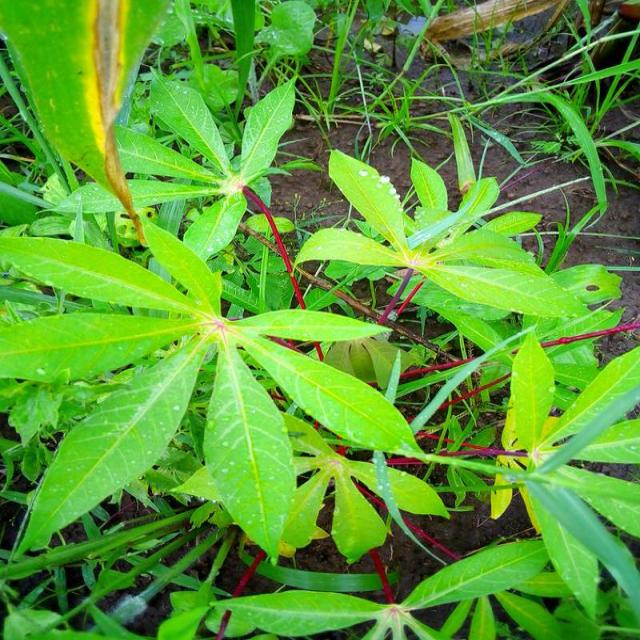cassava leaf: (2, 215, 427, 564), (2, 0, 175, 244)
